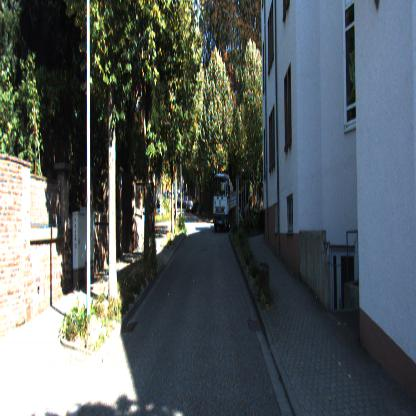car: (208, 152, 237, 253)
